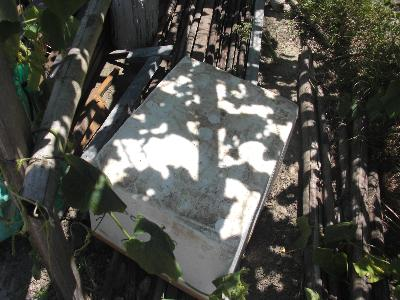styrofoam: (73, 55, 303, 295)
